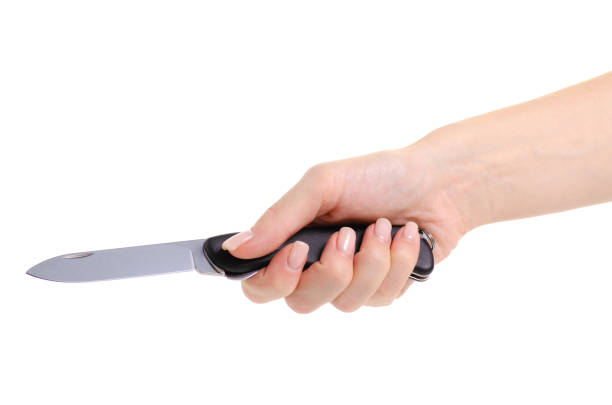knife: (22, 222, 437, 283)
